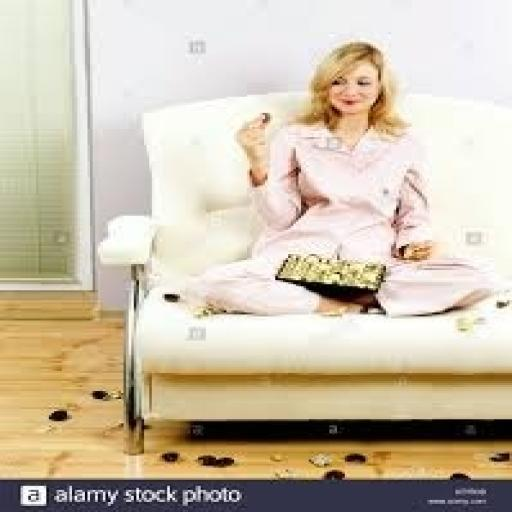sitting: (180, 38, 499, 318)
